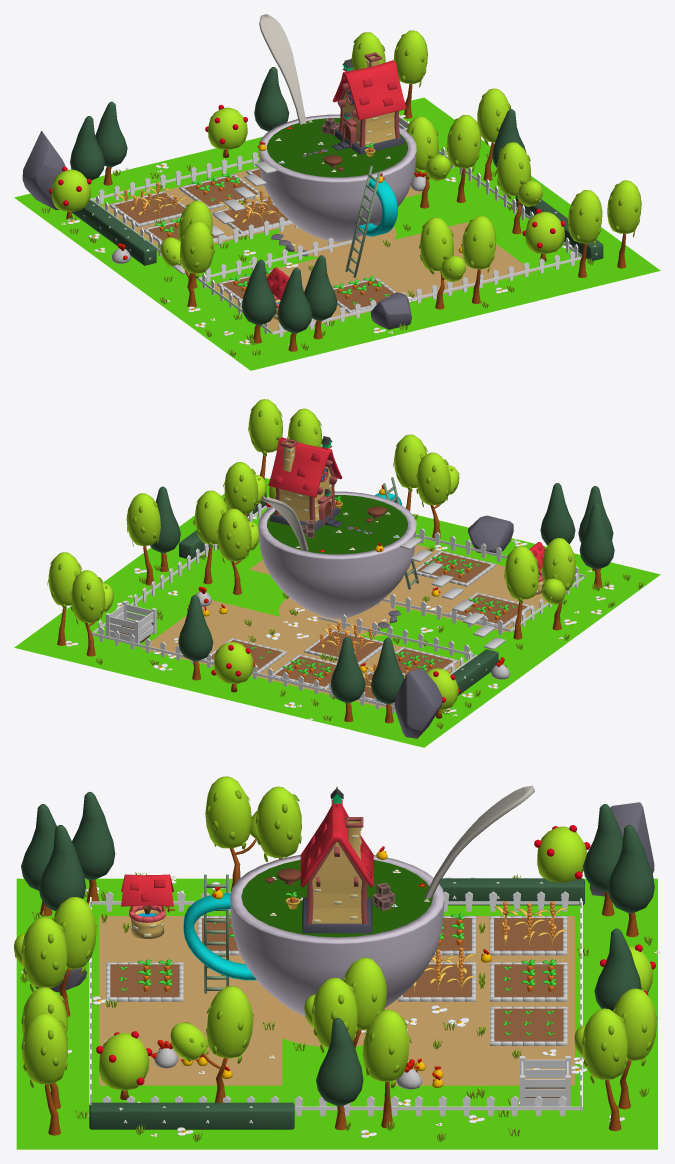
Rendered from teacup_house.glb.
3 views of the same model, one above another, from view 1: azimuth 30°, elevation 25°; view 2: azimuth 150°, elevation 25°; view 3: azimuth 270°, elevation 25° (orthographic). The views are drawn at different scales.
Visible parts, largest first — view 1: floor, cup, house, sand2, tree10, tree6, tree5, maize_bed1, flower_bed1, stone5, tree3, sand1 (+36 smaller); view 2: floor, cup, house, sand4, sand1, stone5, tree10, tree13, tree3, tree6, tree11, tree12 (+35 smaller); view 3: floor, cup, sand4, sand2, house, flower_bed2, sand1, tree5, maize_bed1, tree10, flower_bed1, tree2 (+34 smaller).
Boxes of the visible parts, box(x1,y1,x2,y2) form: floor: box(14, 97, 660, 370); cup: box(258, 14, 416, 241); house: box(332, 52, 406, 154); sand2: box(356, 222, 533, 301); tree10: box(160, 221, 214, 307); tree6: box(419, 217, 465, 309); tree5: box(496, 142, 542, 234); maize_bed1: box(109, 182, 186, 227); flower_bed1: box(71, 200, 156, 265); stone5: box(22, 131, 65, 209); tree3: box(406, 116, 450, 208); sand1: box(210, 257, 400, 334); floor: box(14, 478, 660, 747); cup: box(258, 491, 416, 618); house: box(268, 436, 342, 531); sand4: box(141, 600, 327, 677); sand1: box(386, 549, 546, 632); stone5: box(394, 668, 442, 738); tree10: box(541, 538, 575, 630); tree13: box(70, 570, 114, 656); tree3: box(216, 508, 259, 594); tree6: box(415, 452, 459, 538); tree11: box(504, 546, 538, 639); tree12: box(126, 493, 160, 585); floor: box(16, 878, 657, 1149); cup: box(183, 785, 534, 1016); sand4: box(392, 994, 574, 1085); sand2: box(99, 994, 282, 1085); house: box(300, 786, 373, 933); flower_bed2: box(88, 1099, 294, 1129); sand1: box(99, 916, 270, 1005); tree5: box(170, 986, 253, 1102); maize_bed1: box(489, 901, 567, 955); tree10: box(205, 776, 257, 891); flower_bed1: box(439, 875, 584, 905); tree2: box(581, 1008, 628, 1131).
Size of the model in its own units: 3.97 by 1.72 by 3.98.
62 materials, 1 textured.
